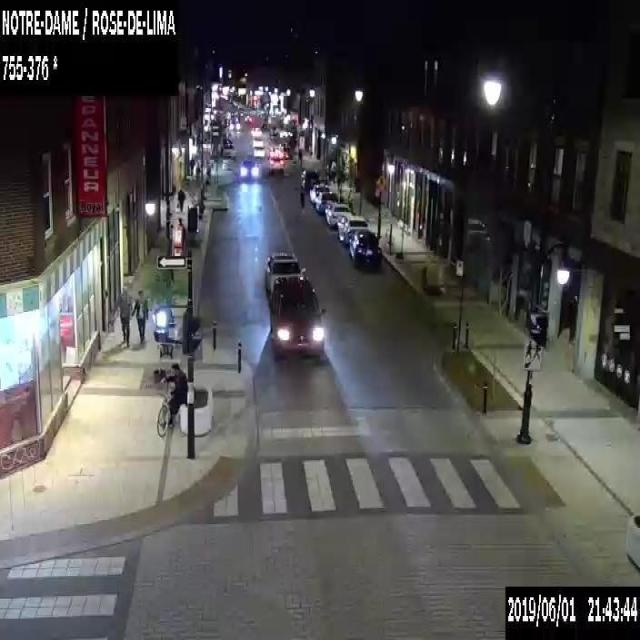pedestrian: (155, 360, 187, 436), (114, 286, 132, 346), (130, 288, 148, 342), (176, 187, 184, 212), (299, 185, 305, 208), (194, 161, 200, 180), (189, 155, 194, 175)
vehicle: (268, 274, 325, 358), (264, 252, 304, 294), (350, 230, 380, 267), (336, 214, 366, 242), (325, 202, 350, 226), (314, 191, 336, 212), (239, 159, 258, 179), (299, 169, 320, 187), (308, 184, 328, 202), (269, 156, 283, 172), (252, 145, 264, 157), (229, 116, 240, 129), (250, 126, 261, 136), (252, 136, 261, 145), (244, 114, 252, 122), (238, 109, 243, 116)
